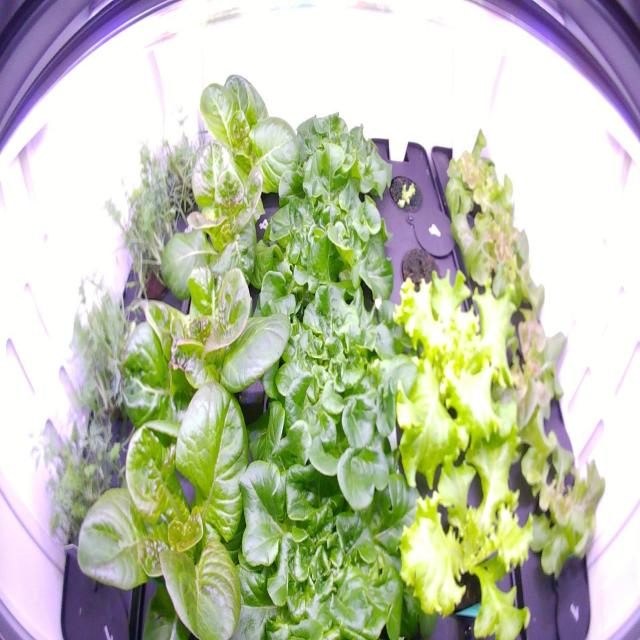pod: (395, 230, 449, 315)
young: (64, 373, 310, 640), (103, 237, 310, 472), (153, 126, 291, 310), (178, 58, 307, 226)
